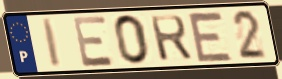0: (111, 13, 152, 67)
2: (231, 9, 269, 61)
E: (185, 11, 235, 64), (71, 14, 117, 69)
I: (40, 17, 63, 69)
R: (147, 13, 195, 63)
